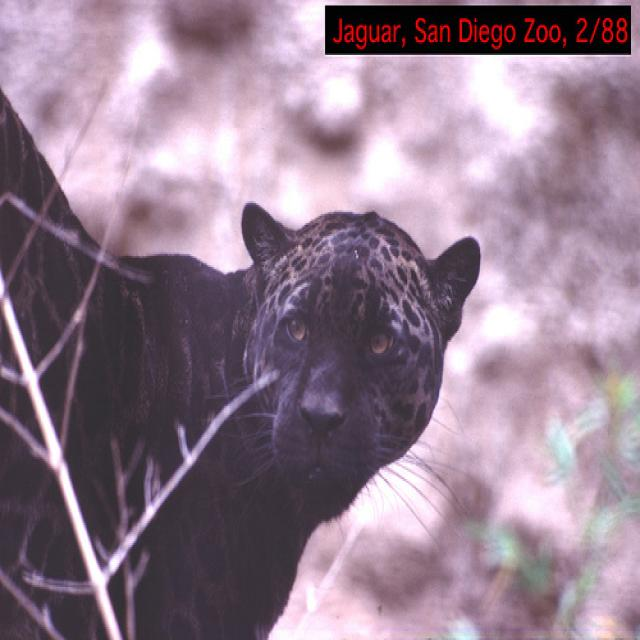Leopard: (0, 73, 483, 636)
